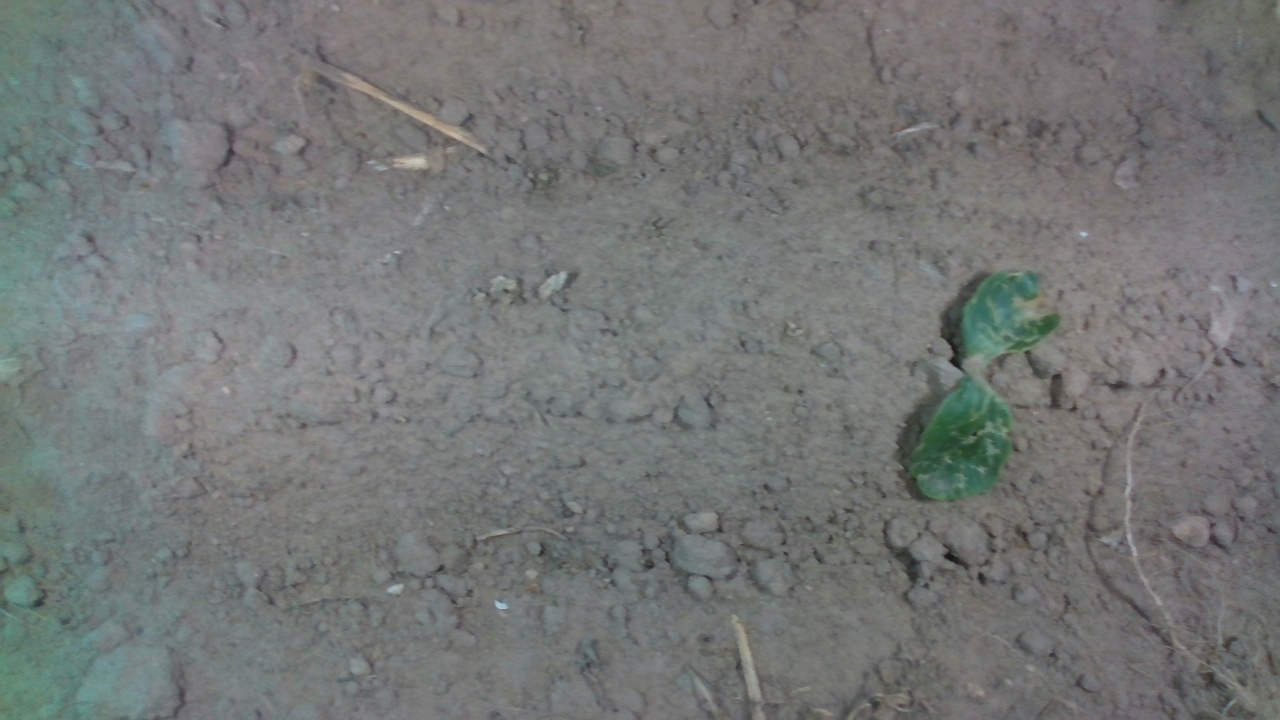crop: (907, 267, 1061, 501)
